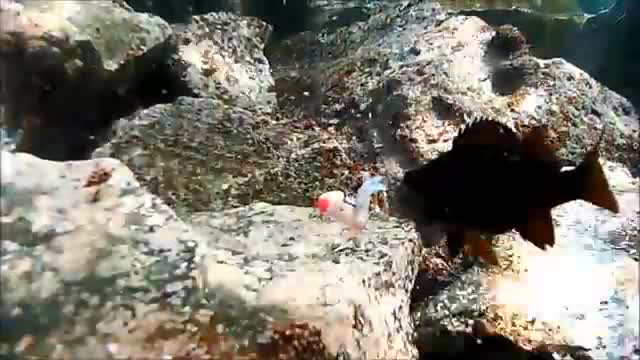mebaru: (379, 113, 624, 245)
